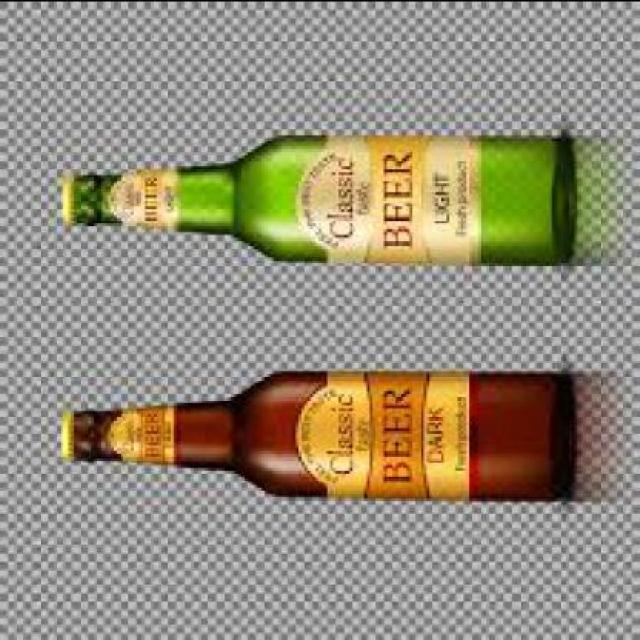GLASS: (74, 137, 575, 268), (74, 376, 575, 498)
METAL: (57, 415, 71, 467), (59, 176, 72, 229)
